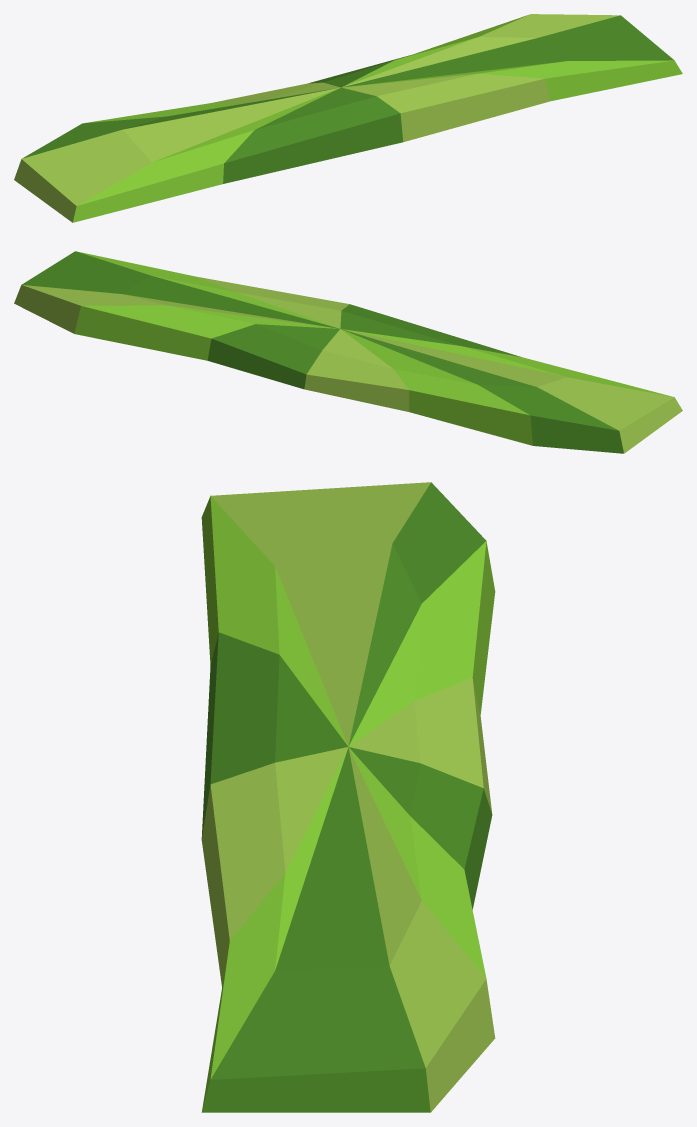
The model's file is green_backdrop.glb.
3 renders of one model, top to bottom at view 1: azimuth 30°, elevation 25°; view 2: azimuth 150°, elevation 25°; view 3: azimuth 270°, elevation 25°, orthographic. The views are drawn at different scales.
Parts seen in each view (by area): view 1: Aero_green_backdrop; view 2: Aero_green_backdrop; view 3: Aero_green_backdrop.
Part boxes in pixels (x1,y1,x2,y2): Aero_green_backdrop: (14, 14, 682, 222); Aero_green_backdrop: (14, 251, 682, 453); Aero_green_backdrop: (201, 482, 495, 1112).
Bounding box in the file's own units: 24 × 1.3 × 5.
Materials: 1 (1 with a texture image).
